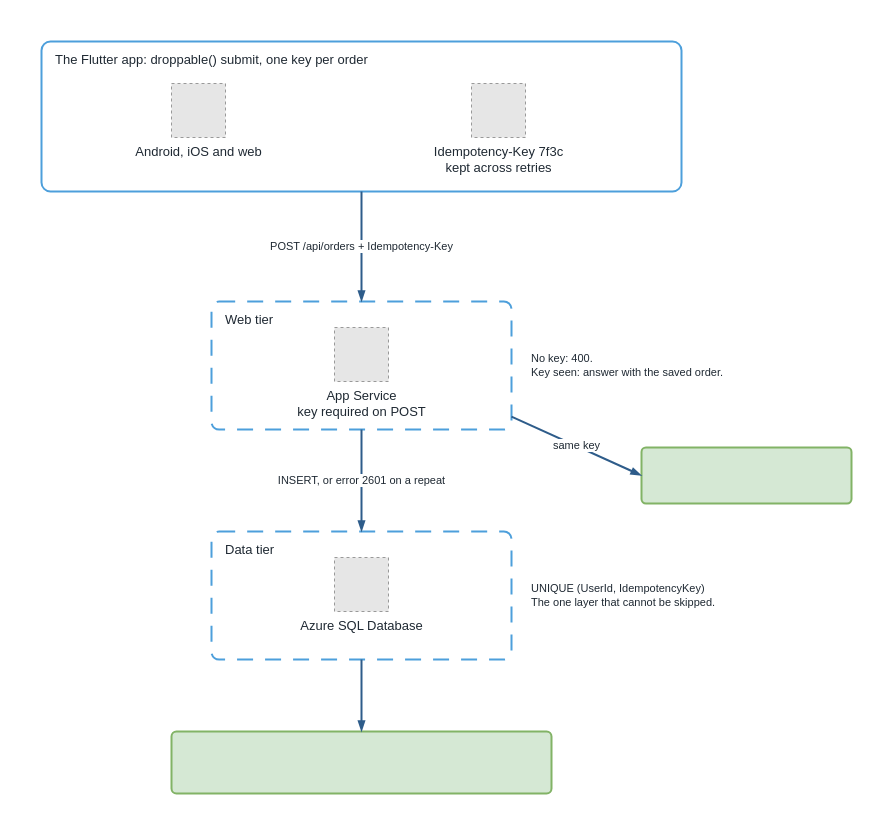
Some shapes in this 892 by 834 pixel diagram are drawn without their labels. Grey dashed boxes stand in for pictures. The centre of each missing label's shape, as x and y in pixels:
"Payment gateway charge once, same key" goes at point (746, 475).
"✓ One tap, one order, one charge The next Friday: 0 duplicates in 41,200 orders" goes at point (361, 762).
